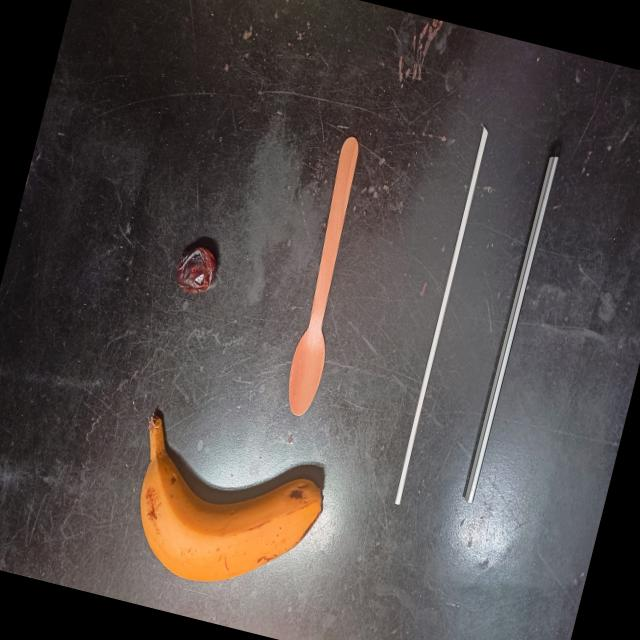Banana-Bio: (96, 394, 340, 618)
Date-Bio: (159, 230, 230, 313)
Pencil-Bio: (444, 136, 572, 527)
Straw-NonBio: (380, 118, 497, 520)
Wooden Spoon-Bio: (269, 122, 386, 426)
